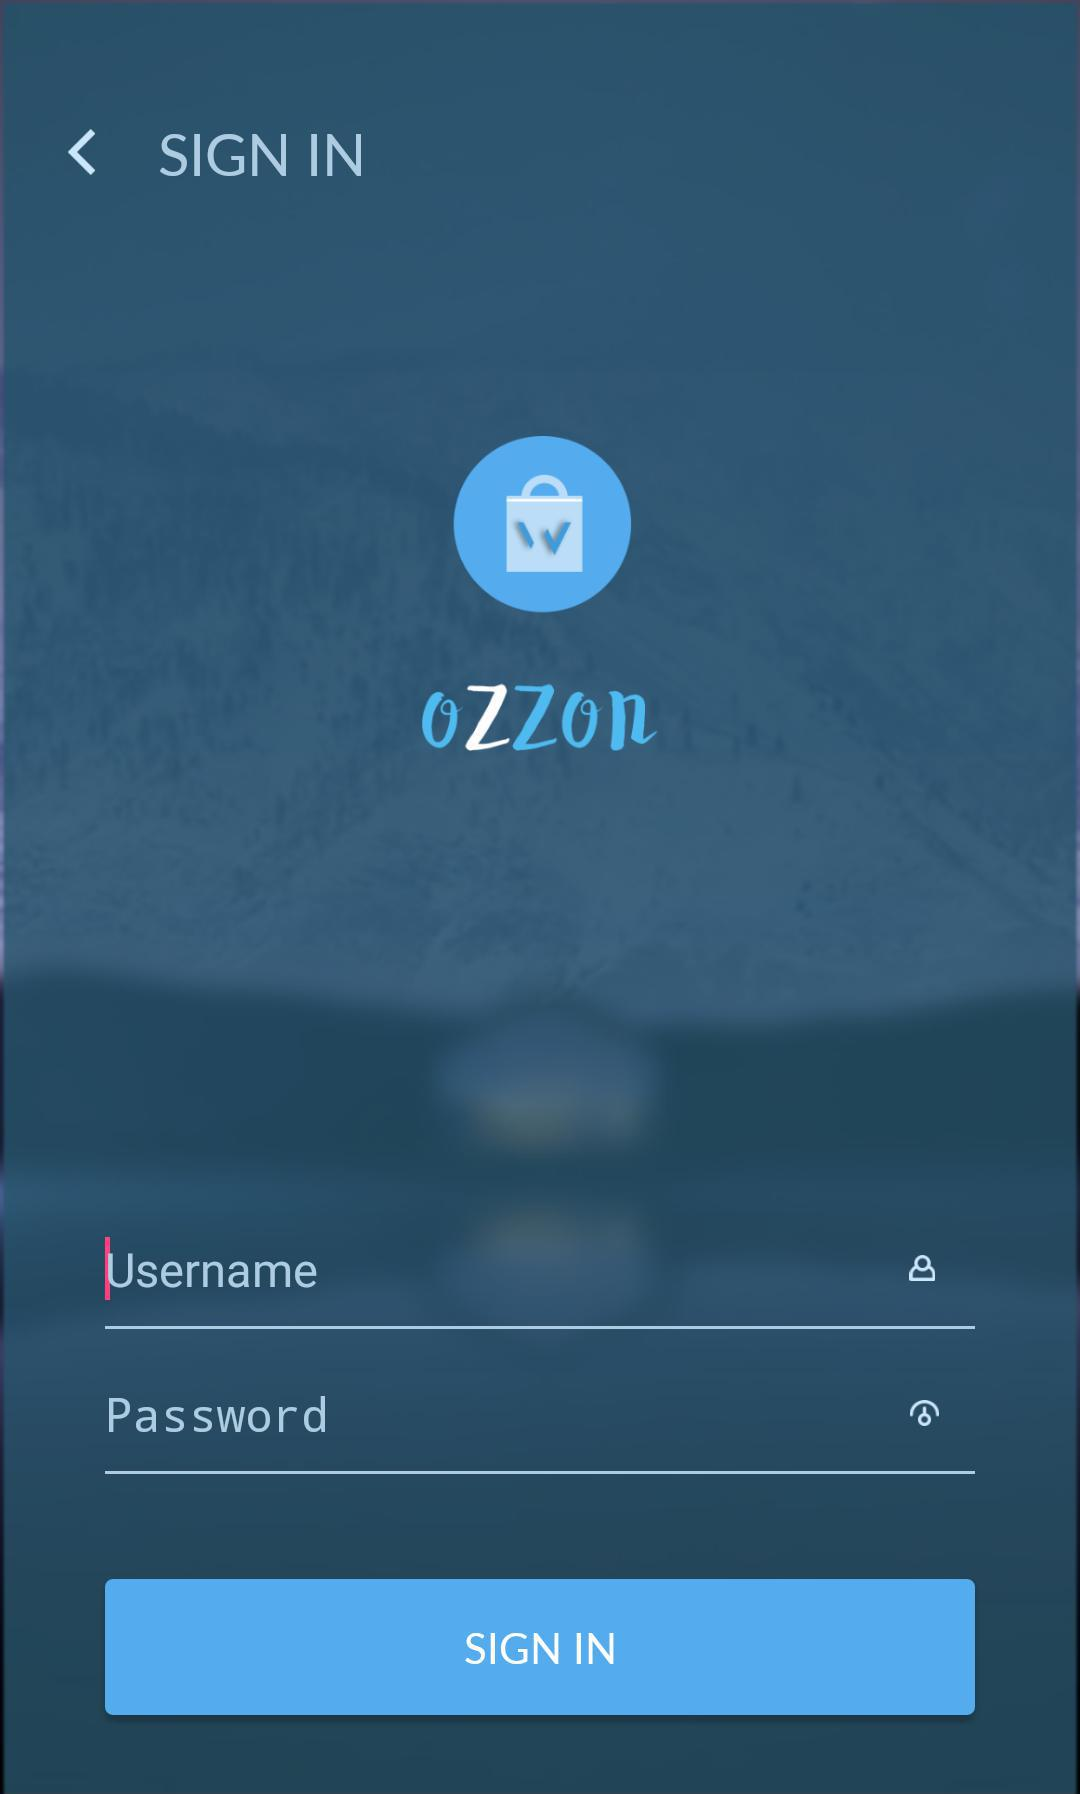EditText: (104, 1237, 976, 1331), (105, 1395, 976, 1475)
Icon: (67, 129, 97, 177), (908, 1255, 937, 1281)
Image: (454, 434, 633, 615), (421, 683, 660, 753), (910, 1399, 940, 1428)
Text: (160, 133, 363, 178), (109, 1395, 327, 1434), (108, 1253, 318, 1289)
TextButton: (105, 1577, 976, 1716)
